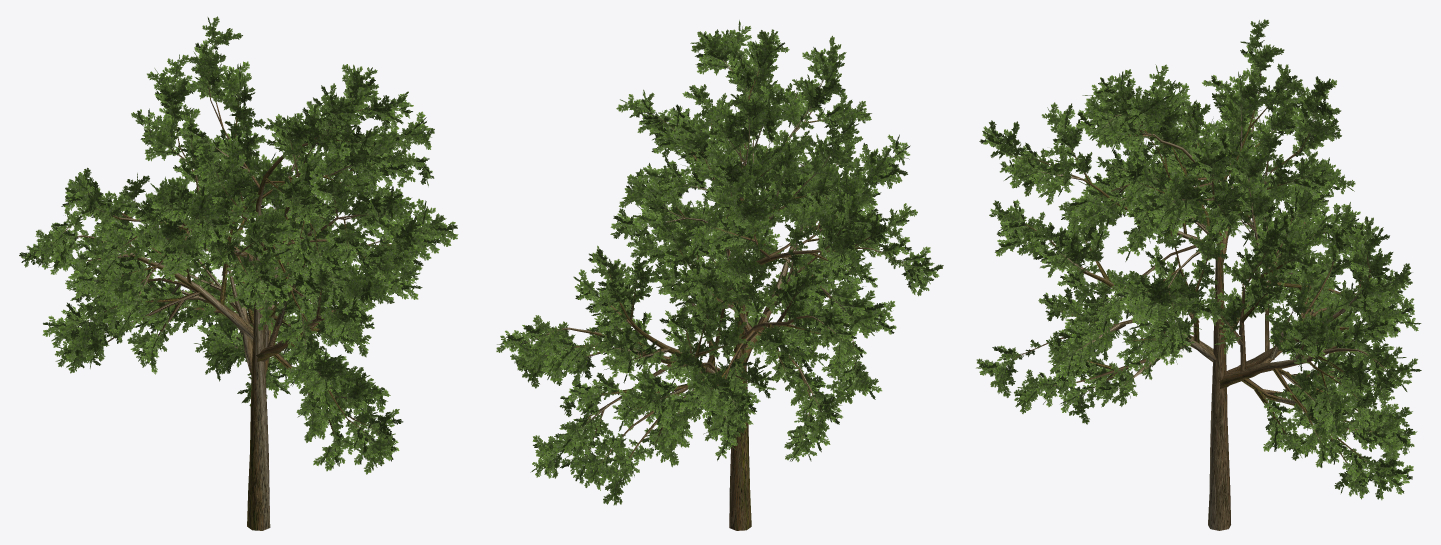
Rendered from ez-oak-medium.glb.
The picture shows the model from 3 angles, left to right: view 1: azimuth 30°, elevation 25°; view 2: azimuth 150°, elevation 25°; view 3: azimuth 270°, elevation 25°; orthographic projection. The views are drawn at different scales.
Size of the model in its own units: 4.47 by 5.5 by 4.55.
2 materials, 2 textured.
